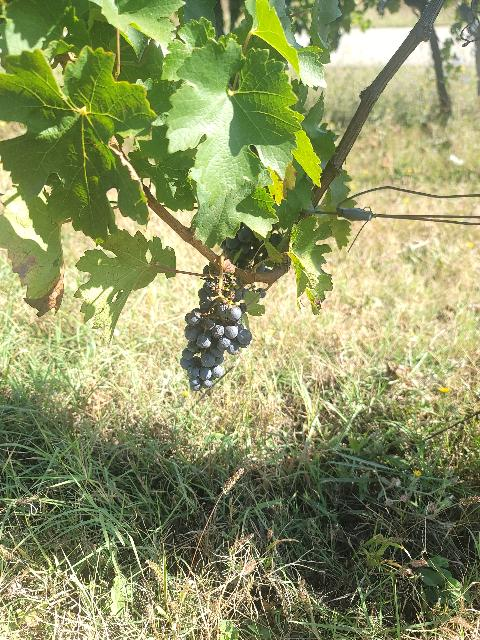grapes: (180, 278, 251, 391)
